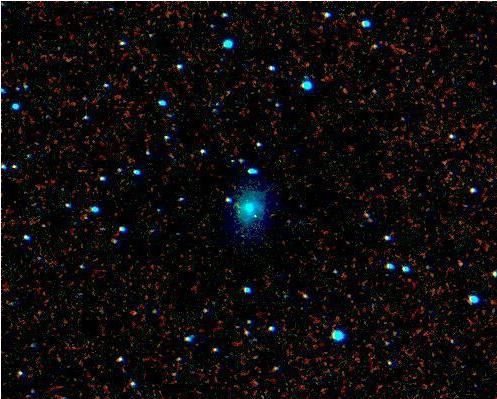star: (239, 200, 269, 230)
